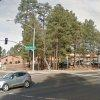Tree: (13, 3, 98, 56)
